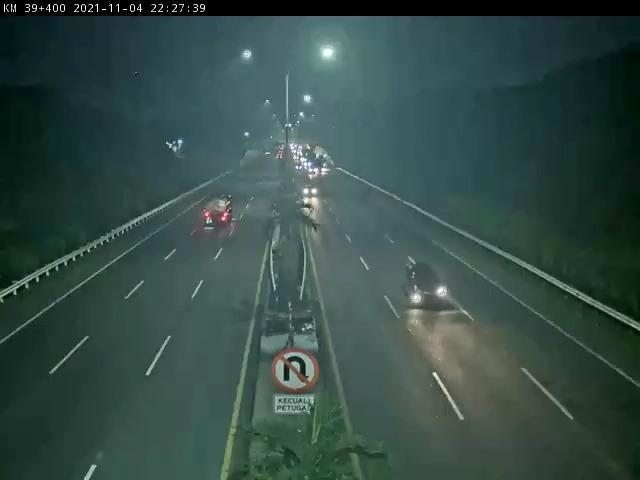car: (404, 256, 447, 312)
truck: (203, 196, 233, 228)
